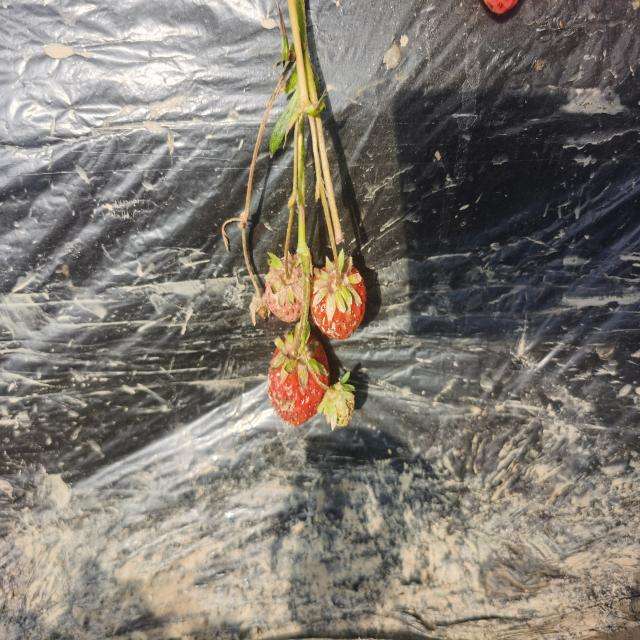stem: (329, 233, 340, 288), (284, 224, 292, 282), (294, 318, 304, 359)
strawberry: (267, 329, 330, 427), (311, 259, 367, 339), (265, 254, 303, 323)
